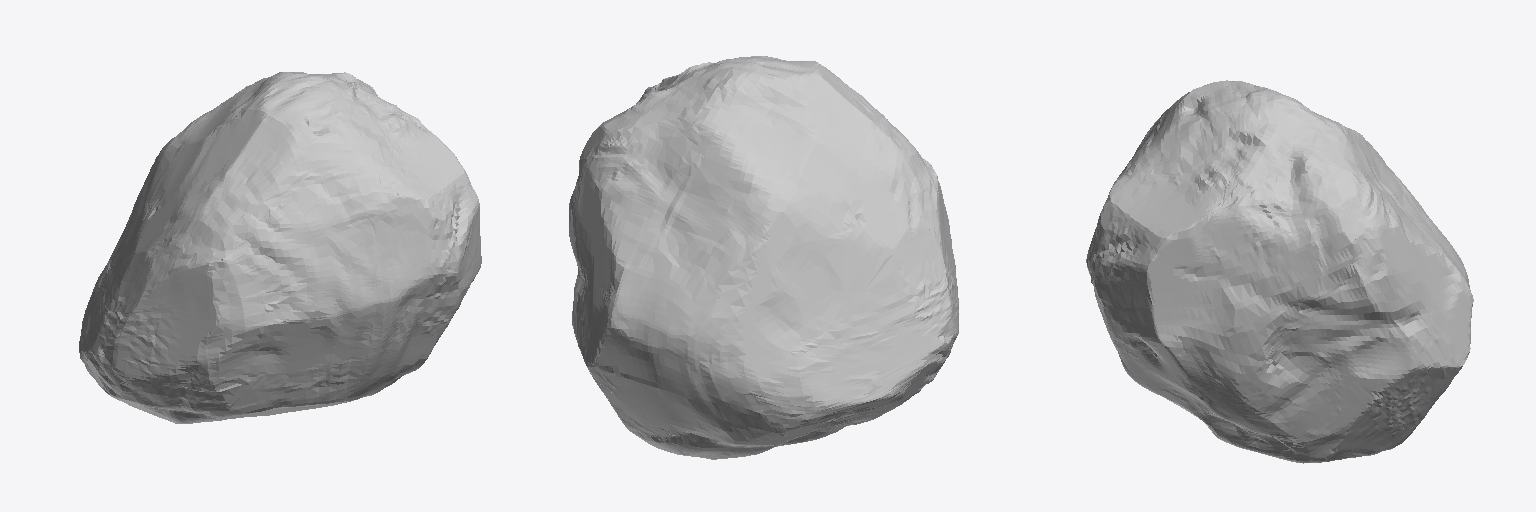
The model's file is rock2.obj.
The picture shows the model from 3 angles: view 1: azimuth 30°, elevation 25°; view 2: azimuth 150°, elevation 25°; view 3: azimuth 270°, elevation 25°; orthographic projection.
Parts seen in each view (by area): view 1: Group15792; view 2: Group15792; view 3: Group15792.
Part boxes in pixels (left/top/right/bottom): Group15792: left=79, top=72, right=481, bottom=423; Group15792: left=569, top=56, right=958, bottom=459; Group15792: left=1086, top=80, right=1473, bottom=463.
Size of the model in its own units: 2.12 by 2.13 by 2.13.